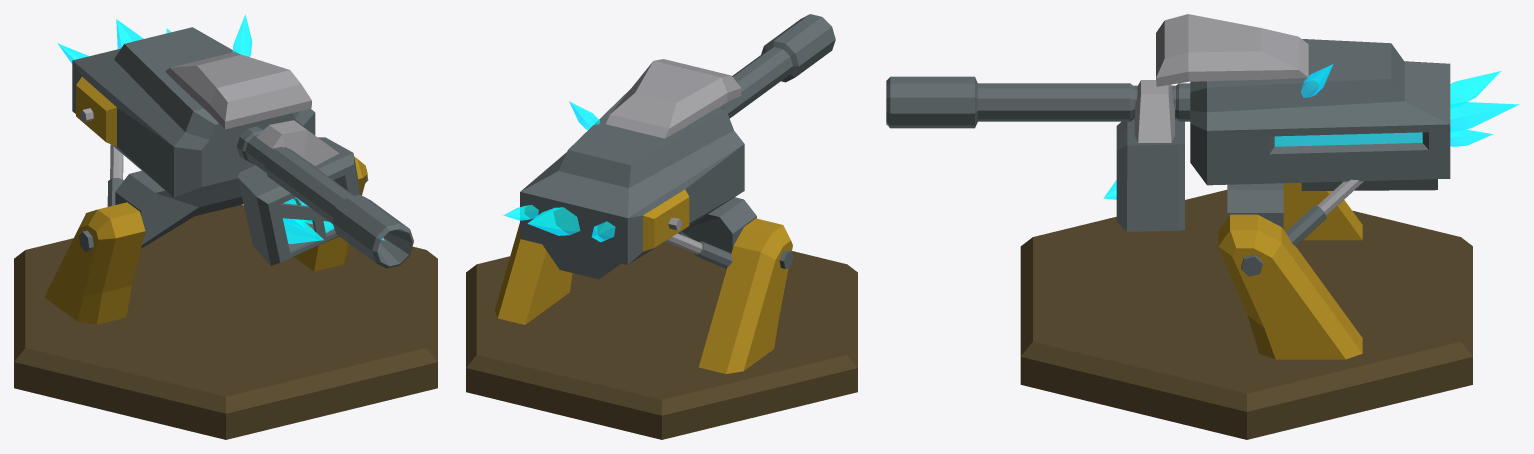
File: PlayerTurret004.fbx
The picture shows the model from 3 angles, left to right: view 1: azimuth 30°, elevation 25°; view 2: azimuth 150°, elevation 25°; view 3: azimuth 270°, elevation 25°; orthographic projection. The views are drawn at different scales.
Visible parts, largest first — view 1: PlayerTurret_Base, PlayerTurret_Barrel; view 2: PlayerTurret_Base, PlayerTurret_Barrel; view 3: PlayerTurret_Base, PlayerTurret_Barrel.
Boxes of the visible parts, bbox=[...] form: PlayerTurret_Base: bbox=[14, 157, 437, 439]; PlayerTurret_Barrel: bbox=[57, 14, 413, 268]; PlayerTurret_Base: bbox=[466, 218, 857, 439]; PlayerTurret_Barrel: bbox=[503, 14, 835, 279]; PlayerTurret_Base: bbox=[1020, 182, 1472, 439]; PlayerTurret_Barrel: bbox=[886, 14, 1519, 246].
Bounding box in the file's own units: 386 × 242 × 468.
